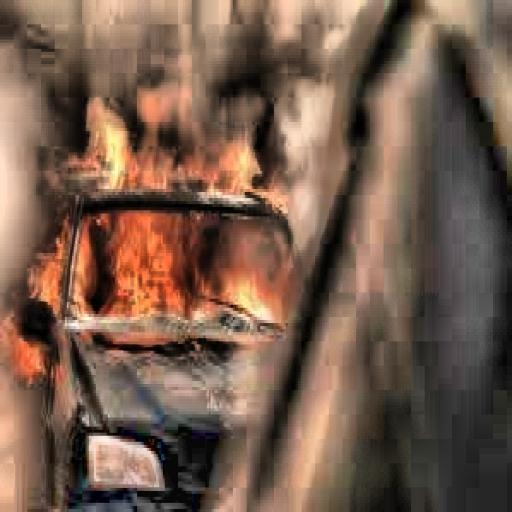fire: (36, 100, 293, 344)
